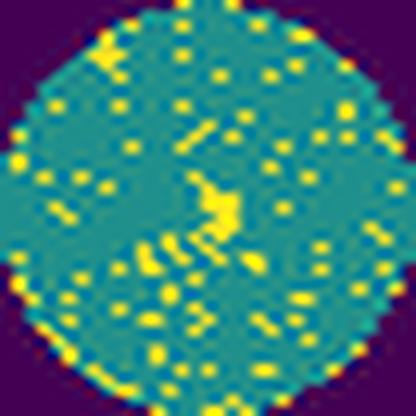Center: (170, 157, 244, 272)
